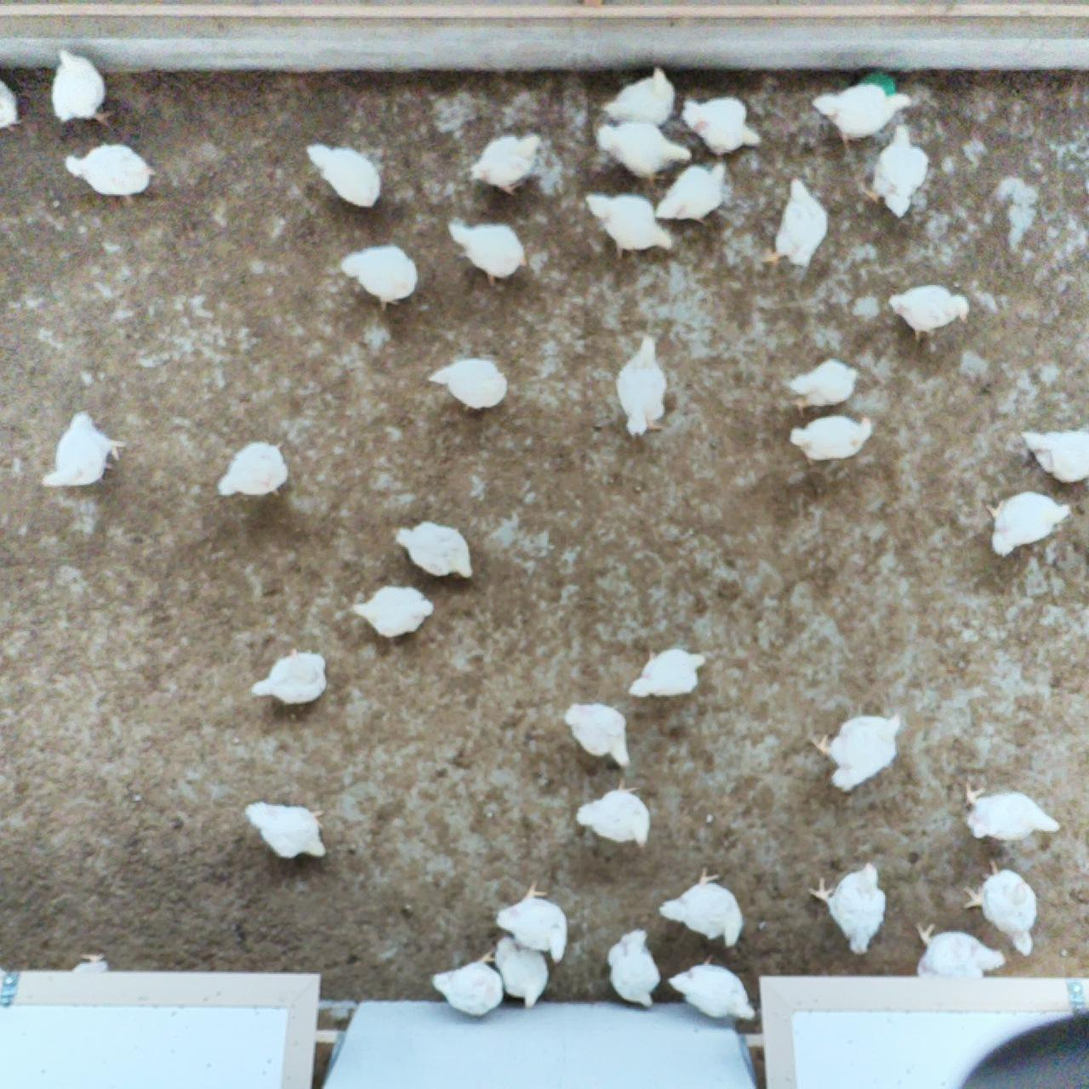chicken: (808, 80, 919, 155), (958, 857, 1039, 959), (816, 706, 907, 796), (756, 171, 836, 273), (858, 119, 932, 223), (814, 858, 892, 953), (611, 330, 678, 440), (579, 185, 676, 259), (36, 410, 122, 492), (657, 868, 746, 947), (985, 487, 1076, 560), (961, 780, 1061, 846), (913, 917, 1008, 984), (663, 953, 755, 1022), (594, 116, 698, 176), (444, 221, 534, 290), (336, 238, 421, 311), (496, 881, 573, 961), (58, 138, 159, 198), (245, 795, 330, 866), (302, 140, 388, 210), (571, 774, 650, 850), (652, 157, 733, 230), (428, 944, 508, 1017), (45, 46, 116, 128), (348, 580, 439, 642), (886, 279, 973, 342), (789, 409, 883, 467), (248, 646, 334, 709), (605, 917, 660, 1014), (677, 94, 761, 157), (426, 355, 517, 413), (213, 437, 293, 502), (468, 127, 543, 196), (783, 355, 863, 419), (1015, 419, 1089, 487), (489, 930, 551, 1011), (390, 520, 474, 579), (564, 701, 631, 770), (630, 644, 709, 701), (605, 68, 679, 125), (0, 74, 26, 135)
